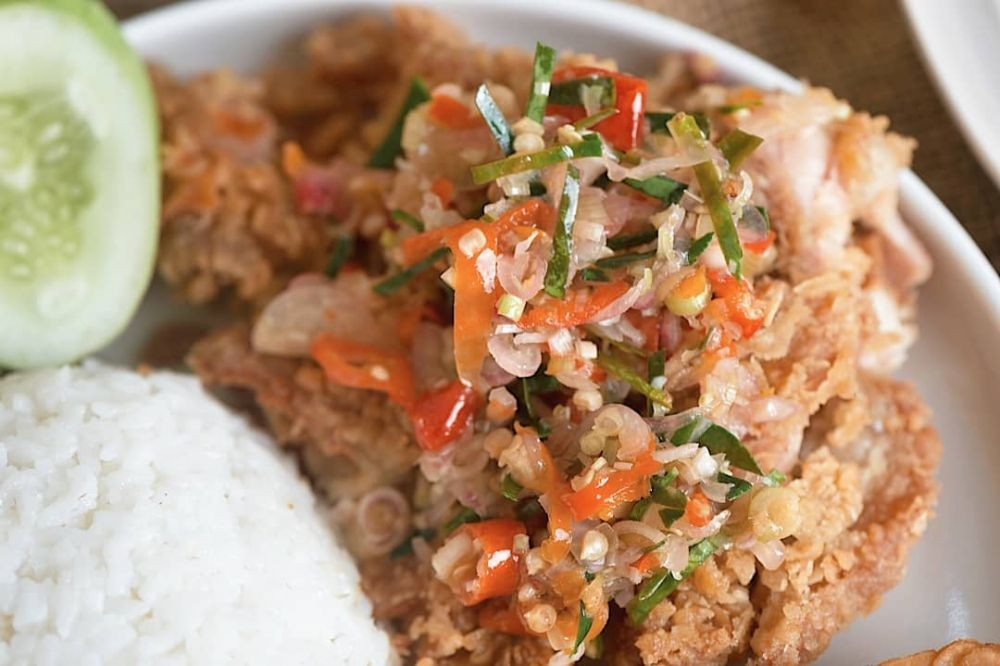ayam_geprek: (171, 52, 950, 663)
